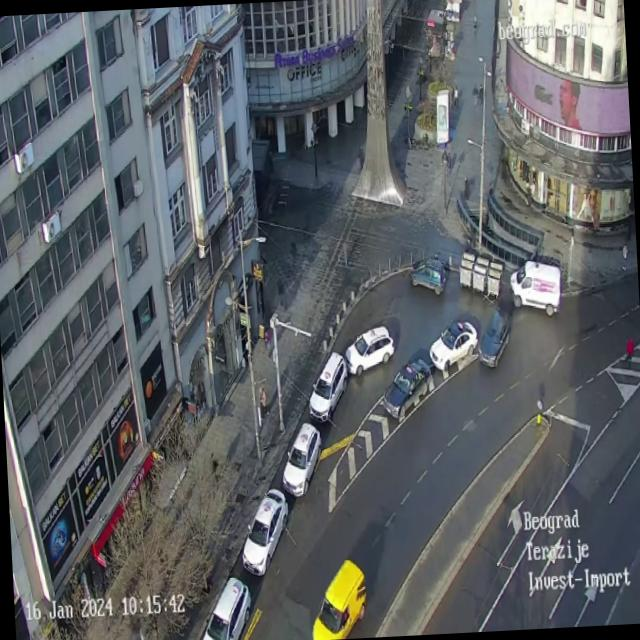car: (308, 557, 369, 640), (238, 487, 292, 577), (195, 575, 253, 640), (383, 358, 438, 421), (280, 421, 324, 498), (306, 350, 350, 424), (508, 259, 564, 317), (342, 325, 397, 378), (427, 317, 480, 372), (476, 308, 512, 370), (408, 256, 446, 296)
